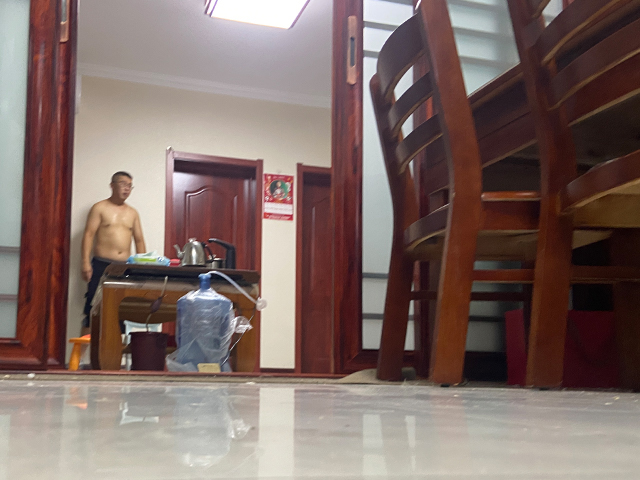carpet: (324, 366, 430, 385)
stool: (367, 1, 539, 389), (505, 1, 640, 389)
table: (88, 277, 262, 376)
